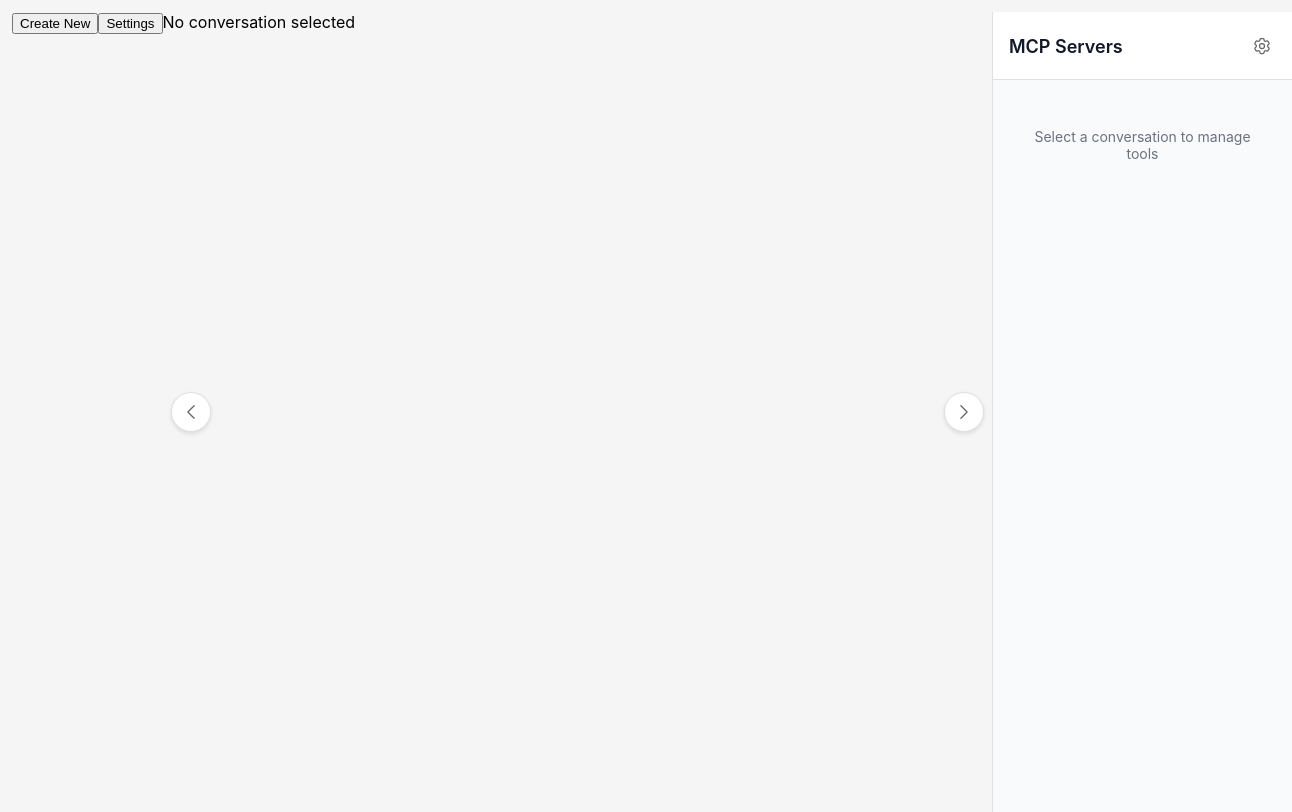
Scenario: App Integration › toggles right sidebar visibility
Expected: the heading "MCP Servers" is shown, [1009,36,1123,56]
# Click hide button for right sidebar
Click the button titled "Hide MCP servers" at (964, 412), box [944,392,984,432]
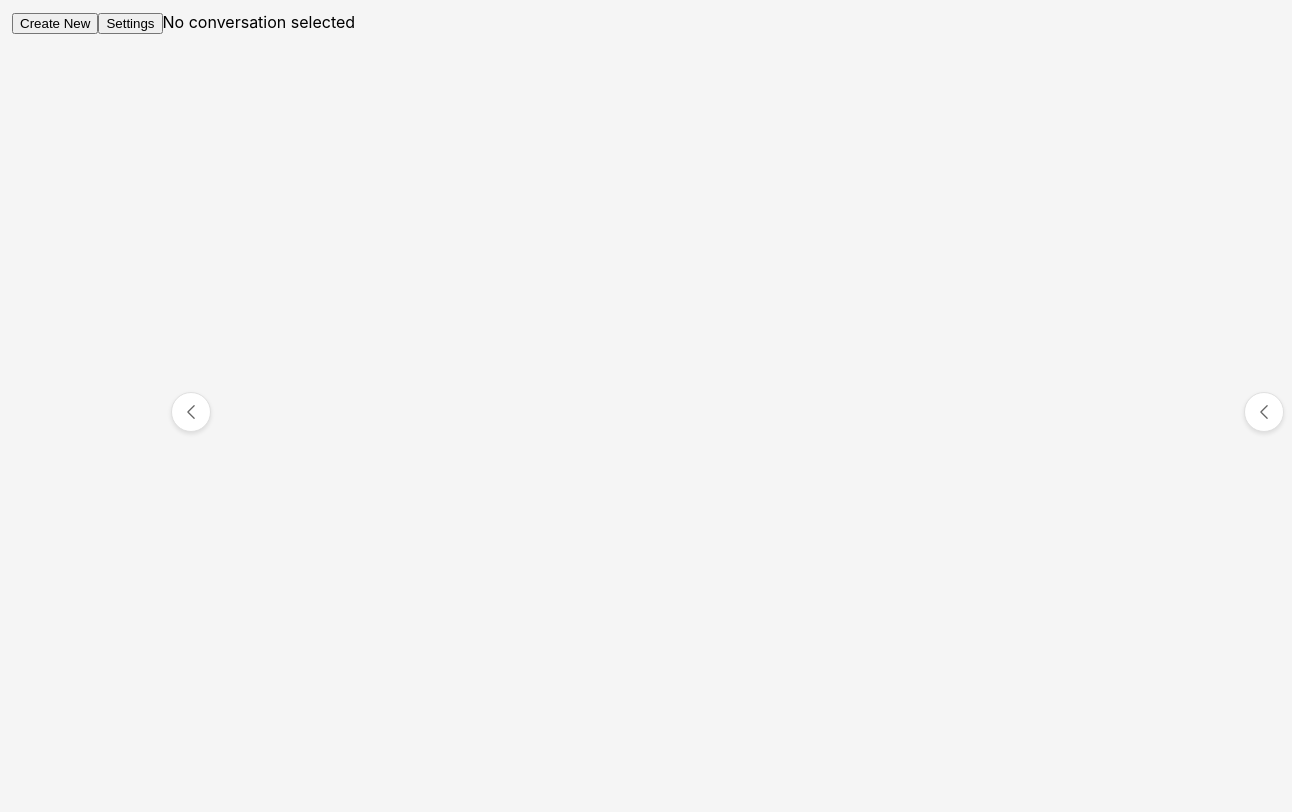
Expected: the heading "MCP Servers" is gone
Expected: the button titled "Show MCP servers" is shown
# Click show button
Click the button titled "Show MCP servers" at (1264, 412), box [1244,392,1284,432]
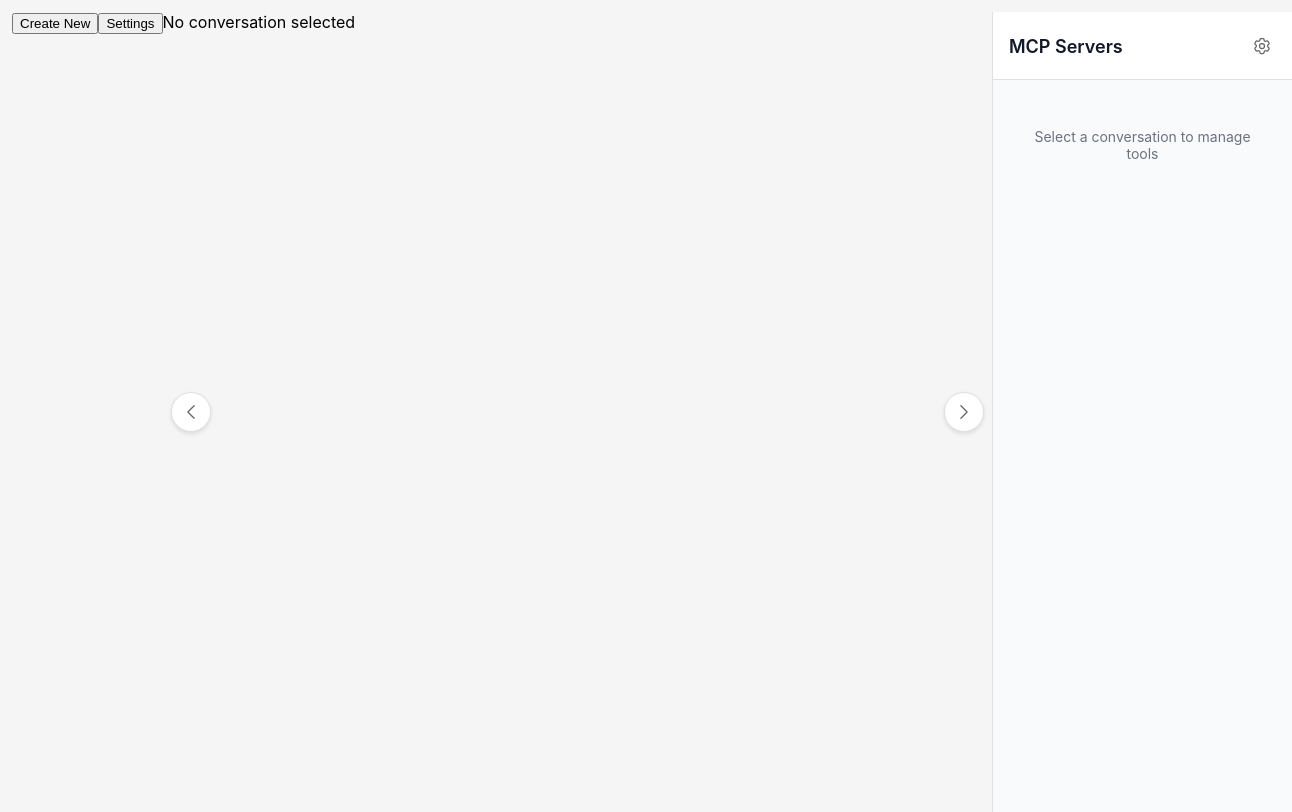
Expected: the heading "MCP Servers" is shown, [1009,36,1123,56]
